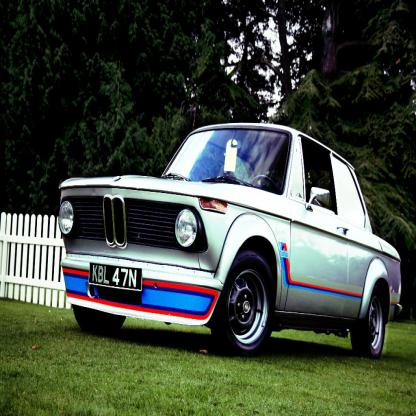Car: (58, 122, 403, 359)
